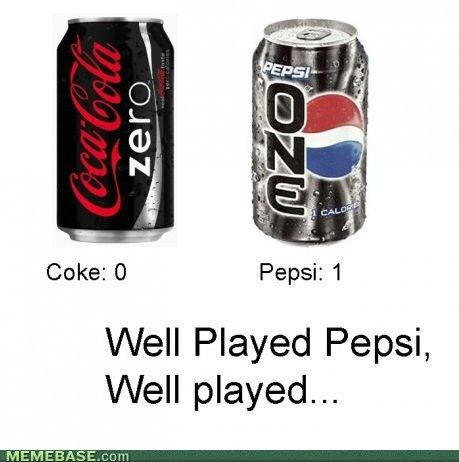can: (41, 3, 185, 262), (245, 6, 378, 249)
